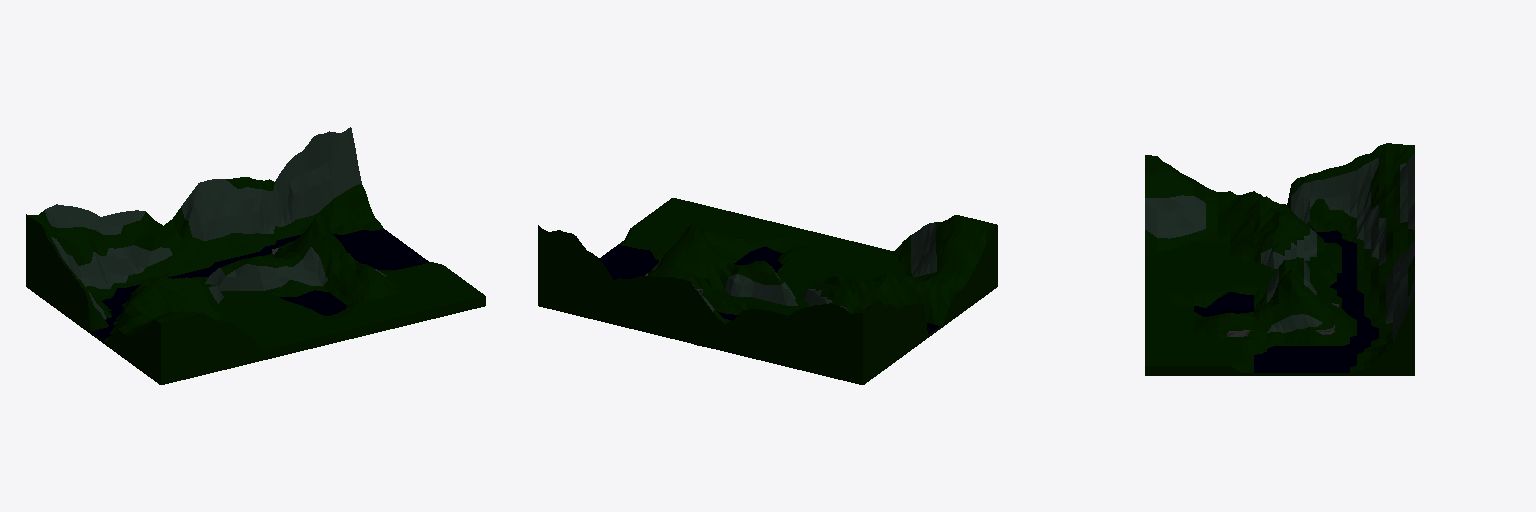
File: Scene_One.obj
The picture shows the model from 3 angles: view 1: azimuth 30°, elevation 25°; view 2: azimuth 150°, elevation 25°; view 3: azimuth 270°, elevation 25°; orthographic projection.
Parts seen in each view (by area): view 1: Tunnel_Cube.002; view 2: Tunnel_Cube.002; view 3: Tunnel_Cube.002.
Part boxes in pixels (bbox=[...]): Tunnel_Cube.002: bbox=[26, 127, 485, 384]; Tunnel_Cube.002: bbox=[538, 198, 997, 384]; Tunnel_Cube.002: bbox=[1145, 143, 1414, 375].
Size of the model in its own units: 6.68 by 1.61 by 4.8.